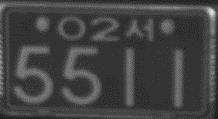0: (57, 16, 86, 41)
1: (161, 47, 195, 109), (113, 47, 146, 106)
2: (91, 16, 120, 41)
5: (61, 45, 103, 106), (12, 45, 53, 105)
서: (124, 17, 155, 43)
